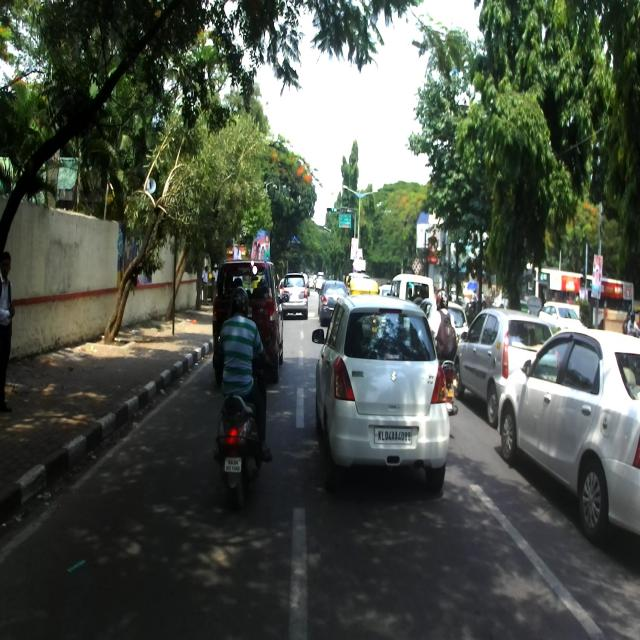Car_Mahindra: (212, 259, 289, 386)
Car_Maruti-Suzuki: (311, 294, 450, 492)
Car_TATA: (446, 284, 546, 406)
Car_Toyota: (282, 271, 306, 321)
Car_Volkswagen: (493, 331, 640, 533)
scooter: (212, 334, 273, 510)
